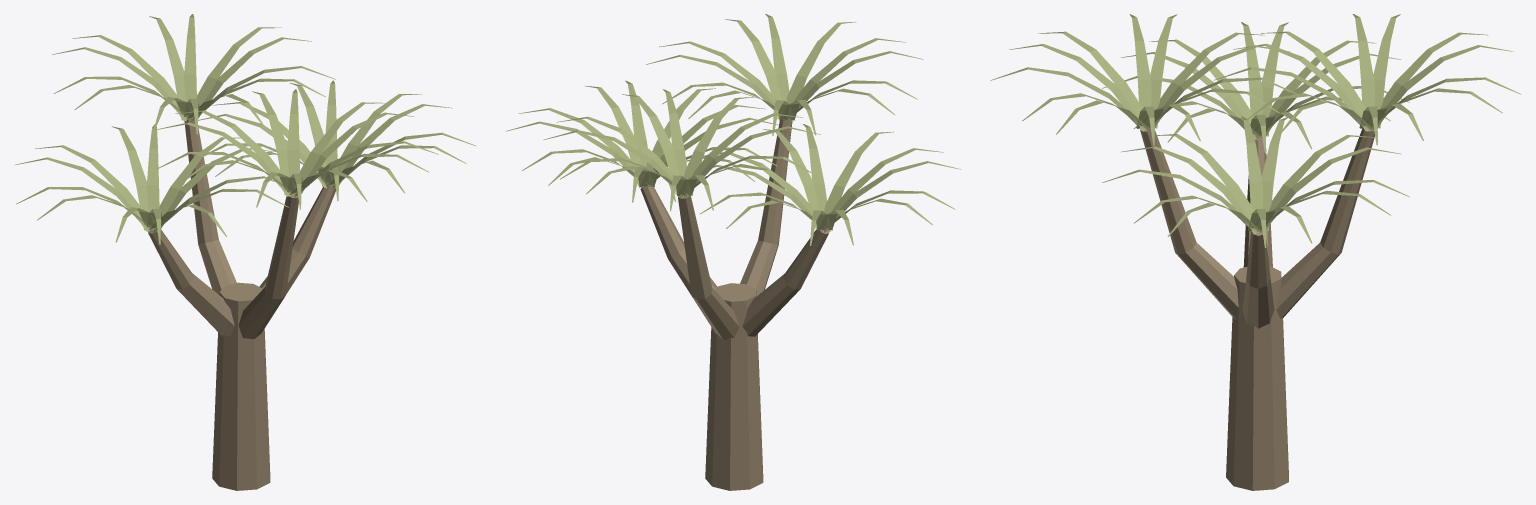
The model's file is desert-canyons-and-oases-tree-yucca-fd0324fa__21000.glb.
The picture shows the model from 3 angles, left to right: view 1: azimuth 30°, elevation 25°; view 2: azimuth 150°, elevation 25°; view 3: azimuth 270°, elevation 25°; orthographic projection. The views are drawn at different scales.
Visible parts, largest first — view 1: tree-yucca; view 2: tree-yucca; view 3: tree-yucca.
Boxes of the visible parts, <box> form: tree-yucca: <box>14,14,476,490</box>; tree-yucca: <box>505,14,960,490</box>; tree-yucca: <box>990,14,1521,490</box>.
Bounding box in the file's own units: 2.63 × 2.23 × 2.62.
